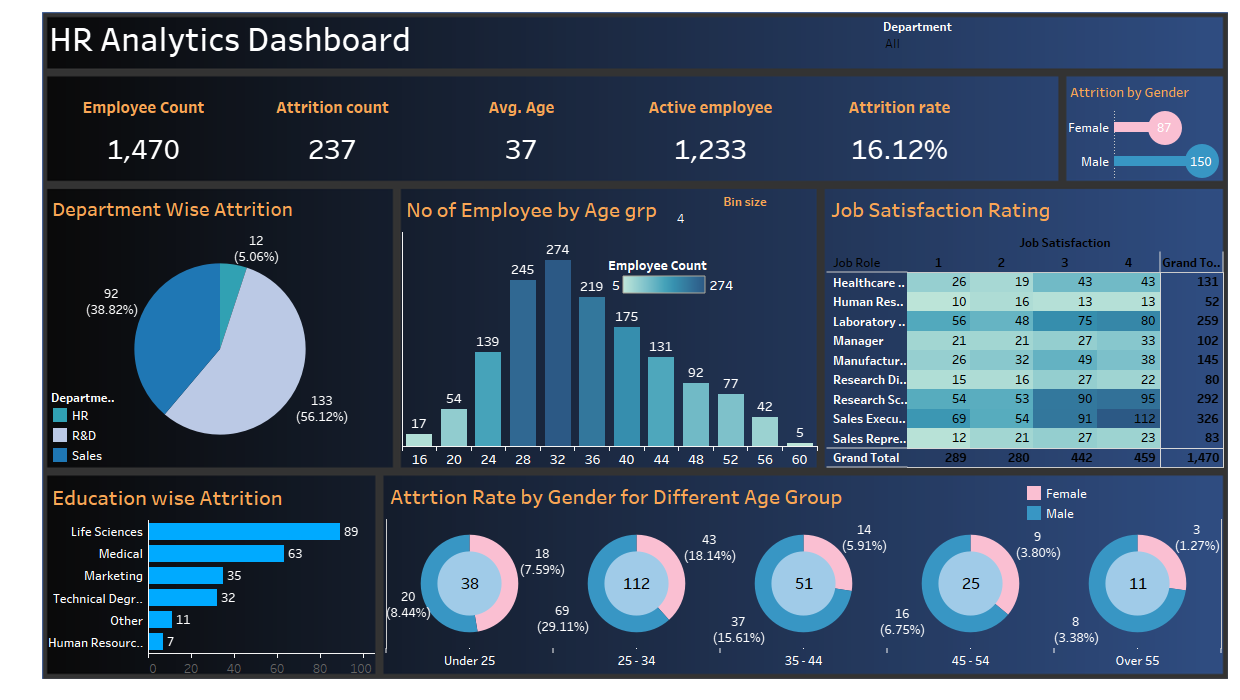

This screenshot's page, from the dashboard's own definition file:
{"tool":"tableau","page":{"name":"HR Analytics Dashboard","canvas":[1240,700],"ordinal":0},"visuals":[{"type":"image","param":"C:/Users/ashish/Downloads/HR background.pptx (1).png","box":[8,8,29.6,684]},{"type":"image","param":"C:/Users/ashish/Downloads/tableau bk/HR background.pptx (1).png","box":[37.6,8,1194.4,684]},{"type":"worksheet","title":"Title","mark":"Automatic","box":[45,16,710,51]},{"type":"filter","title":"Department Wise Attrition","param":"[federated.1bv5fna1gp4jix1agmy8o0z9bry5].[none:Department:nk]","box":[882.8,17,148.1,49]},{"type":"worksheet","title":"Attrition by Gender","mark":"Automatic","rows":["Gender"],"cols":["Calculation_208572996182994944","Calculation_208572996182994944"],"box":[1066,77,158,101]},{"type":"worksheet","title":"KPI","mark":"Automatic","box":[49,78,945,101]},{"type":"worksheet","title":"Department Wise Attrition","mark":"Pie","box":[48,189,344,279]},{"type":"worksheet","title":"No of Employee by Age grp","mark":"Automatic","rows":["Employee Count"],"cols":["Age (bin)"],"box":[402,189,415,279]},{"type":"worksheet","title":"Job Satisfaction Rating","mark":"Square","rows":["Job Role"],"cols":["Job Satisfaction"],"box":[827,189,397,279]},{"type":"parameter","param":"[Parameters].[Age Parameter]","box":[675,192,140,43]},{"type":"legend","title":"No of Employee by Age grp","param":"[federated.1bv5fna1gp4jix1agmy8o0z9bry5].[sum:Employee Count:qk]","box":[608,252,129.6,47]},{"type":"legend","title":"Department Wise Attrition","param":"[federated.1bv5fna1gp4jix1agmy8o0z9bry5].[none:Department:nk]","box":[50,387,68,78]},{"type":"worksheet","title":"Attrtion Rate by Gender for Different Age Group","mark":"Pie","rows":["Calculation_208572996223848452","Calculation_208572996223848452"],"cols":["CF_age band"],"box":[386,476,836,197]},{"type":"worksheet","title":"Education wise Attrition","mark":"Automatic","rows":["Education Field"],"cols":["Calculation_208572996182994944"],"box":[48,477,326,200]},{"type":"legend","title":"Attrtion Rate by Gender for Different Age Group","param":"[federated.1bv5fna1gp4jix1agmy8o0z9bry5].[none:Gender:nk]","box":[1024.4,483,93.5,42]}]}

Visuals, with their boxes in screenshot pixels (x1, y1, x2, y2), scaled from the page's 1240x700 canvas onto the 1240x700 screenshot:
image: [x1=8, y1=8, x2=38, y2=692]
image: [x1=38, y1=8, x2=1232, y2=692]
"Title" worksheet: [x1=45, y1=16, x2=755, y2=67]
"Department Wise Attrition" filter: [x1=883, y1=17, x2=1031, y2=66]
"Attrition by Gender" worksheet: [x1=1066, y1=77, x2=1224, y2=178]
"KPI" worksheet: [x1=49, y1=78, x2=994, y2=179]
"Department Wise Attrition" worksheet (Pie marks): [x1=48, y1=189, x2=392, y2=468]
"No of Employee by Age grp" worksheet: [x1=402, y1=189, x2=817, y2=468]
"Job Satisfaction Rating" worksheet (Square marks): [x1=827, y1=189, x2=1224, y2=468]
parameter: [x1=675, y1=192, x2=815, y2=235]
"No of Employee by Age grp" legend: [x1=608, y1=252, x2=738, y2=299]
"Department Wise Attrition" legend: [x1=50, y1=387, x2=118, y2=465]
"Attrtion Rate by Gender for Different Age Group" worksheet (Pie marks): [x1=386, y1=476, x2=1222, y2=673]
"Education wise Attrition" worksheet: [x1=48, y1=477, x2=374, y2=677]
"Attrtion Rate by Gender for Different Age Group" legend: [x1=1024, y1=483, x2=1118, y2=525]
